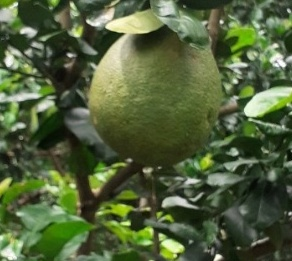Buoi: (89, 29, 224, 168)
